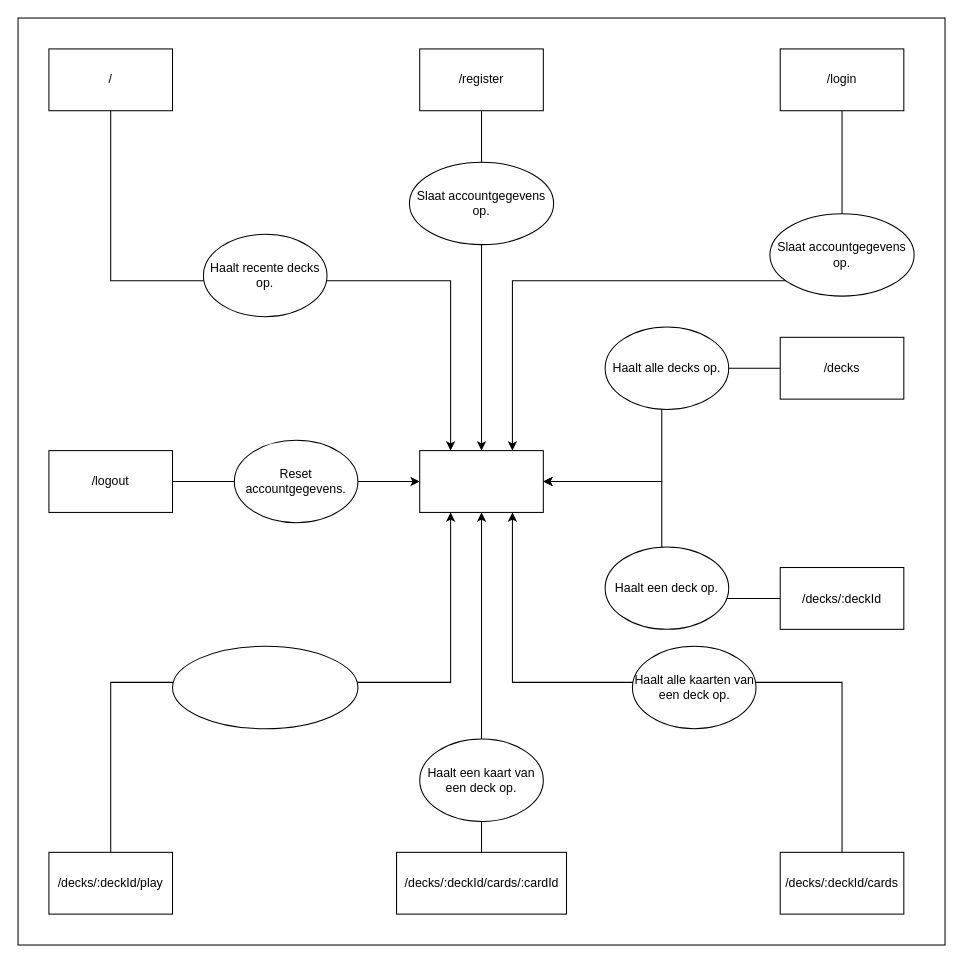
The diagram is 963 pixels wide and 963 high, and some of its shapes have lost their labels. The shapes that lost their labels are listed below. From the top down, each one's centre as x and y in pixels, then its label:
At [481,481]: "Redux store".
At [264,687]: "Haalt deck met flashcards en playHistory op, slaat nieuwe playHistory op.".
